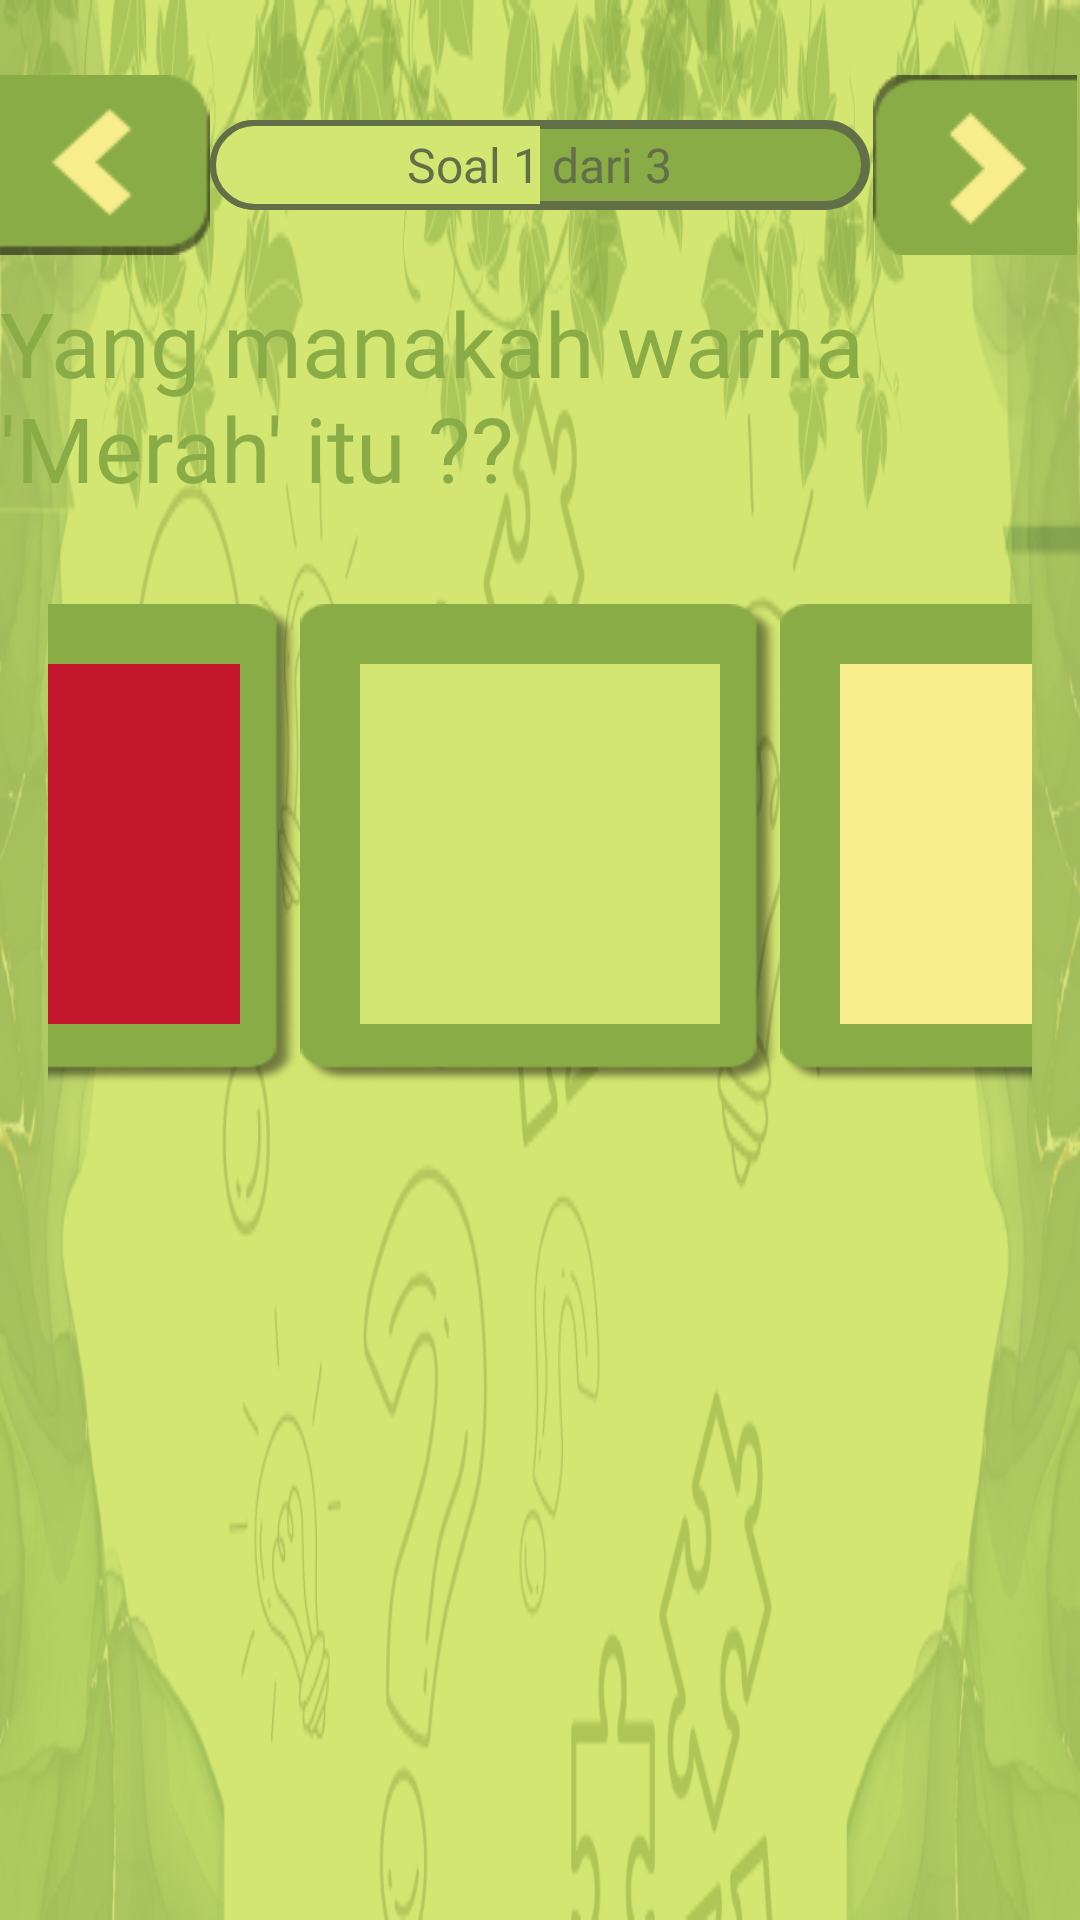

Icon click points for this 1080*1920 phone screenshot, format (x,y):
Next: (975,165)
